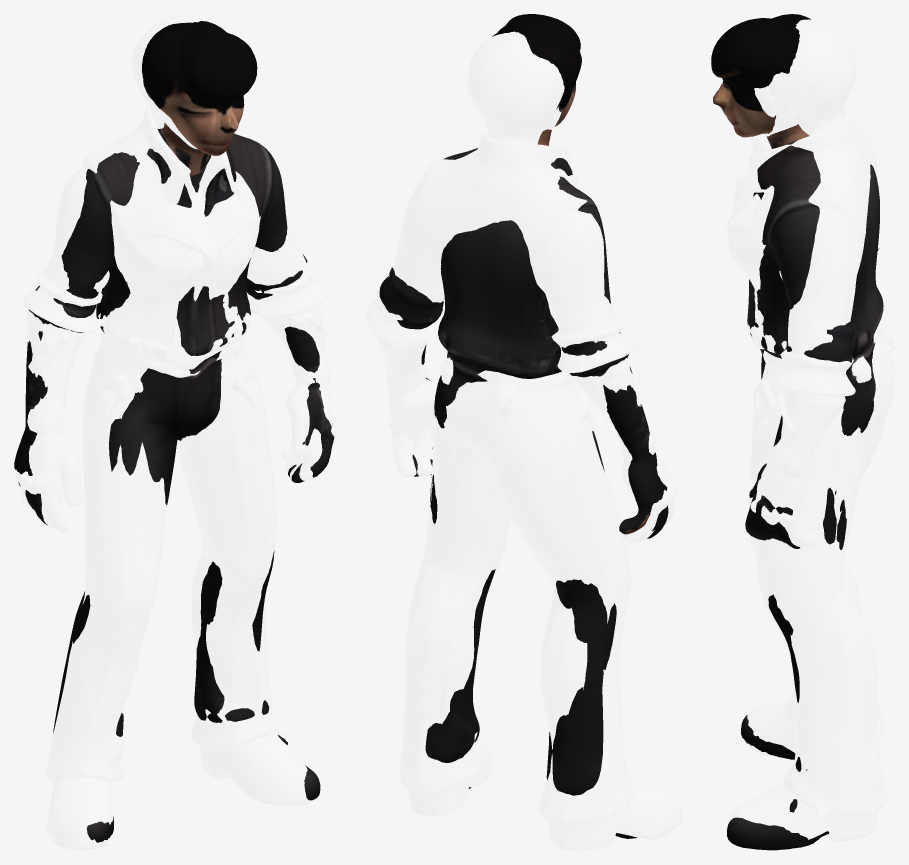
The model's file is rogue_wrapped.glb.
The picture shows the model from 3 angles, left to right: view 1: azimuth 30°, elevation 25°; view 2: azimuth 150°, elevation 25°; view 3: azimuth 270°, elevation 25°; orthographic projection.
Parts seen in each view (by area): view 1: Outfit, Body; view 2: Outfit, Body; view 3: Outfit, Body.
Part boxes in pixels (x1,y1,x2,y2): Outfit: [14, 14, 337, 850]; Body: [14, 21, 334, 842]; Outfit: [366, 31, 682, 850]; Body: [379, 14, 668, 838]; Outfit: [725, 19, 894, 850]; Body: [711, 14, 883, 850].
Size of the model in its own units: 0.7533 by 1.85 by 0.3955.
2 materials, 1 textured.
